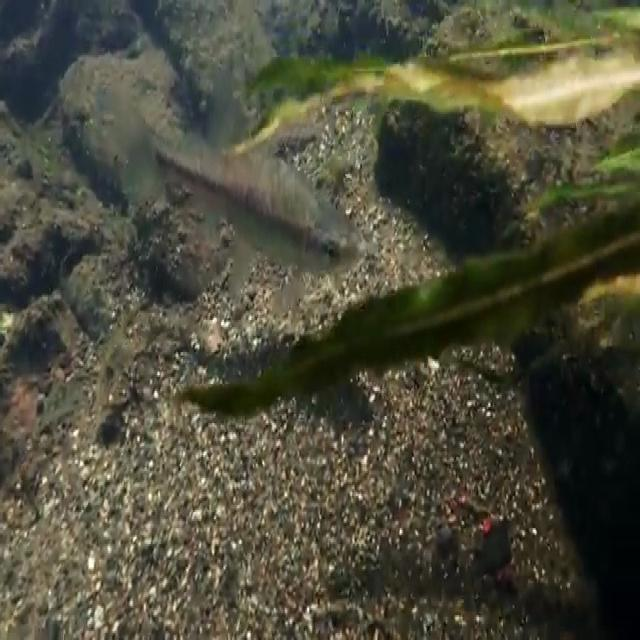Cakil Baligi: (105, 86, 366, 282)
